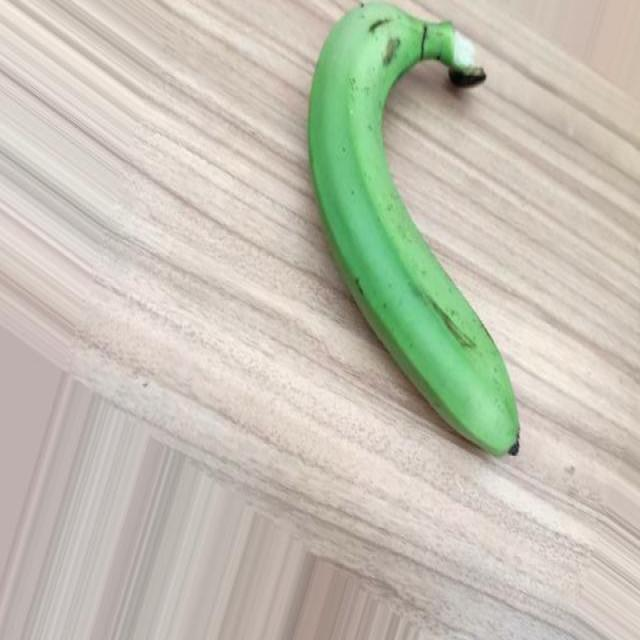Unripe: (308, 0, 525, 460)
